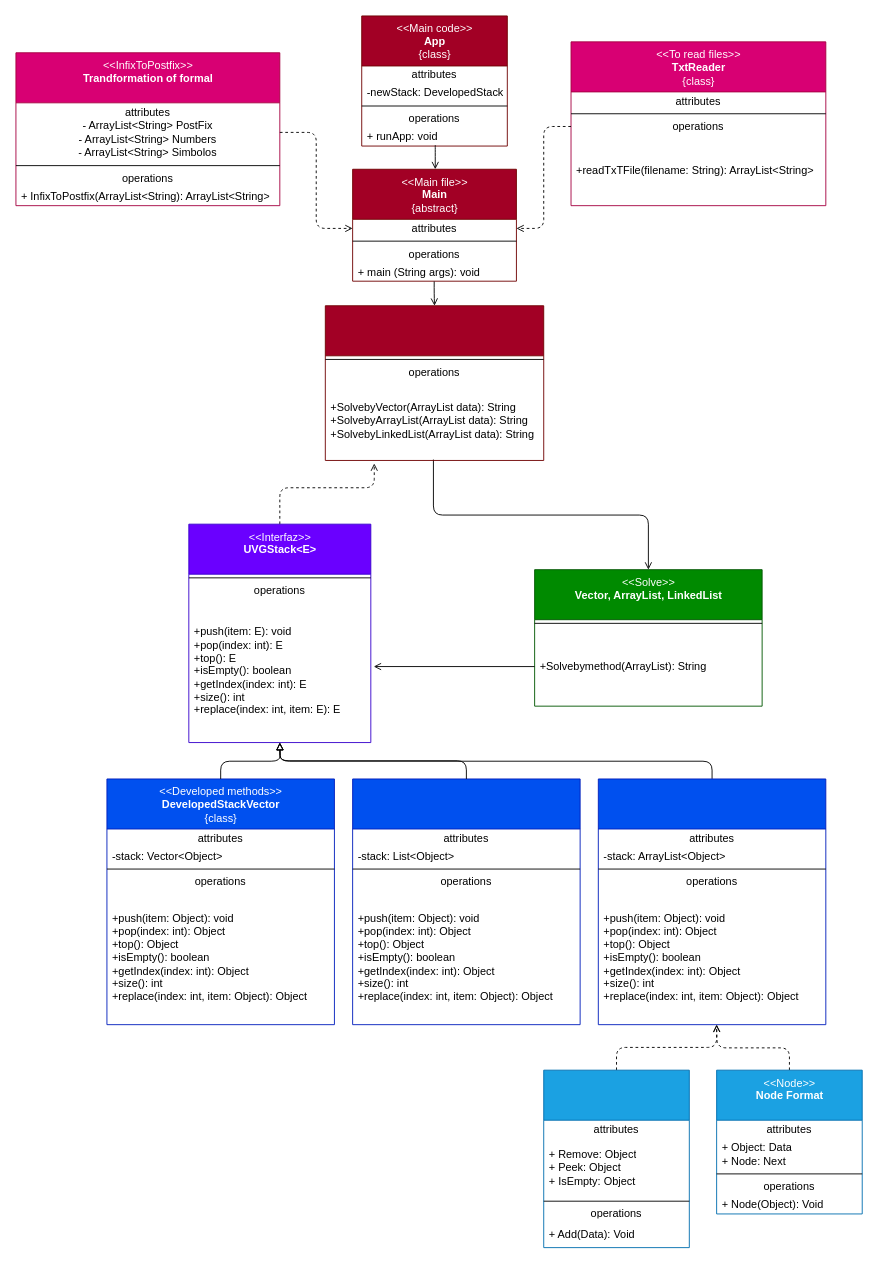
Some shapes in this 878 by 1264 pixel diagram are drawn without their labels. The box of each missing label's shape, as (x1, y1, x2, y2) in pixels:
<<Developed methods>> DevelopedStackArrayList {class}: (352, 778, 580, 1025)
<<Developed methods>> DevelopedStackLinkedList {class}: (597, 778, 826, 1025)
<<Factory>> Factory<Metodo, Data>: (324, 305, 544, 460)
<<SingleLinkedList>> Single Linked Lists: (543, 1069, 689, 1248)
